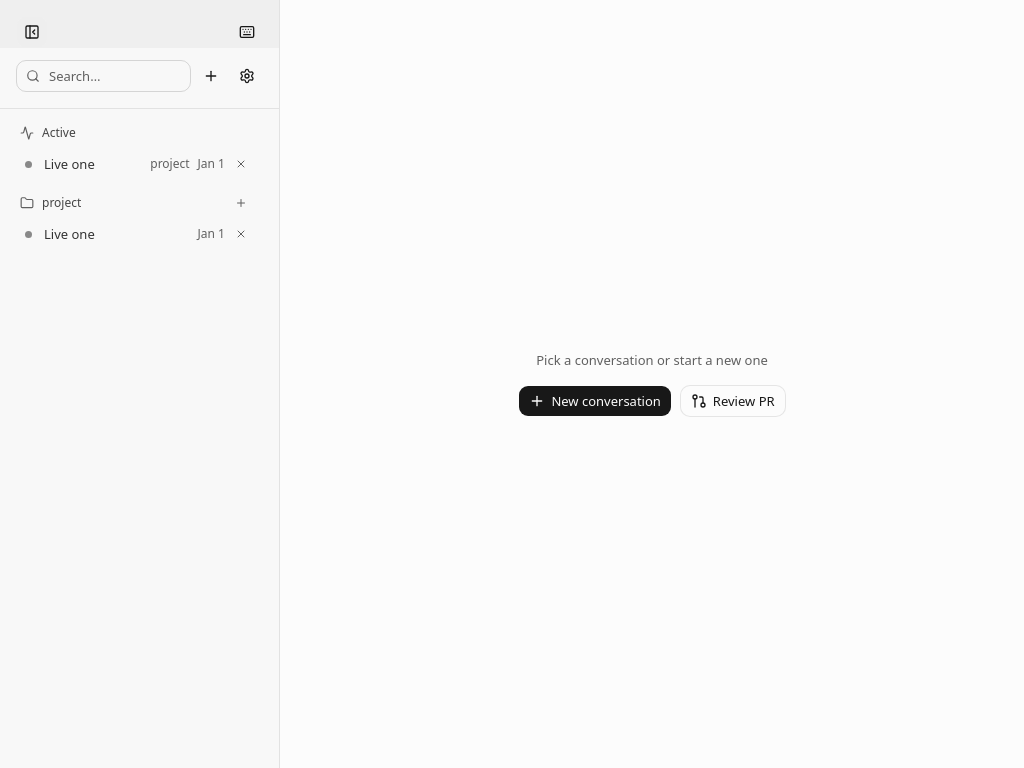
Scenario: Sidebar › asks Stop or Delete on a live row; Cancel does nothing
The width and height of the screenshot is (1024, 768).
Later steps or results of the test are not shown.
Check: the navigation bar named "Conversations" is shown, box [0,0,279,246]
Click the 2nd button named "Stop or delete Live one (project)": click(241, 234) [229,222,253,246]
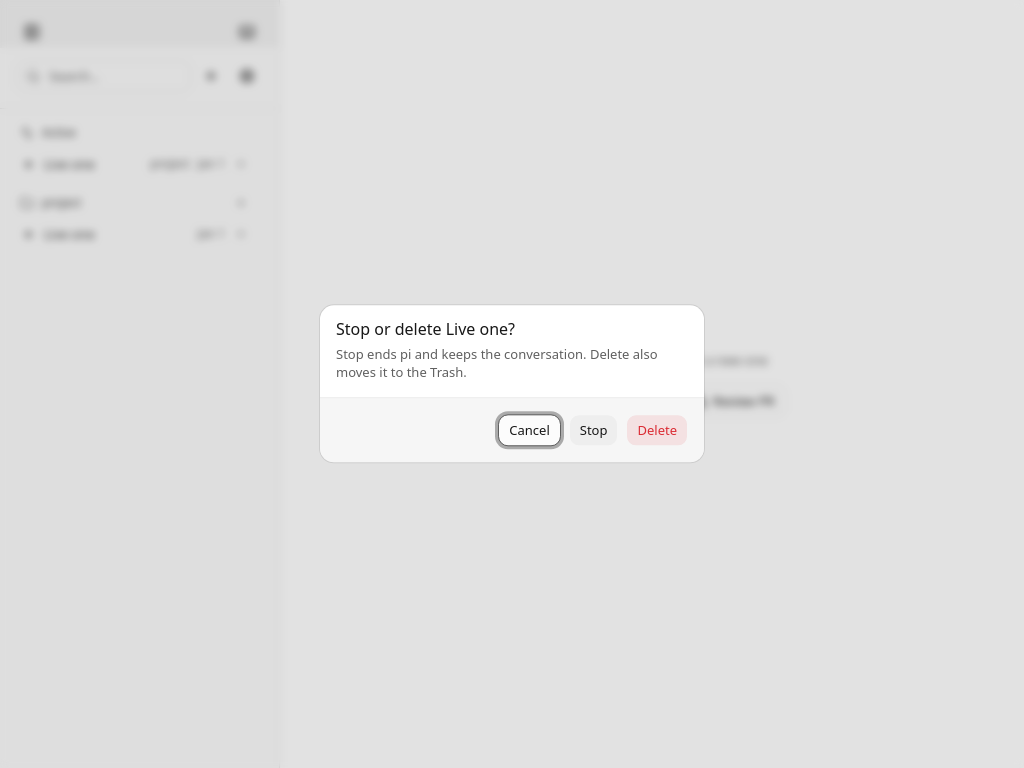
Click the button "Cancel": click(530, 431) [498,415,561,447]
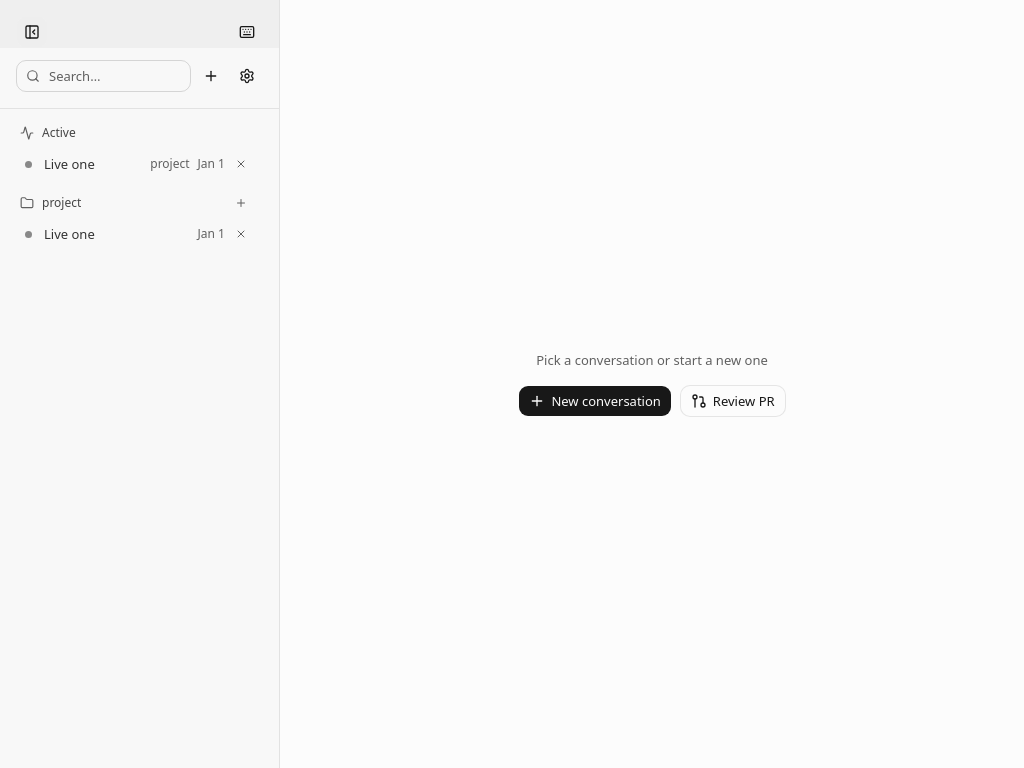
Check: the dialog is gone
